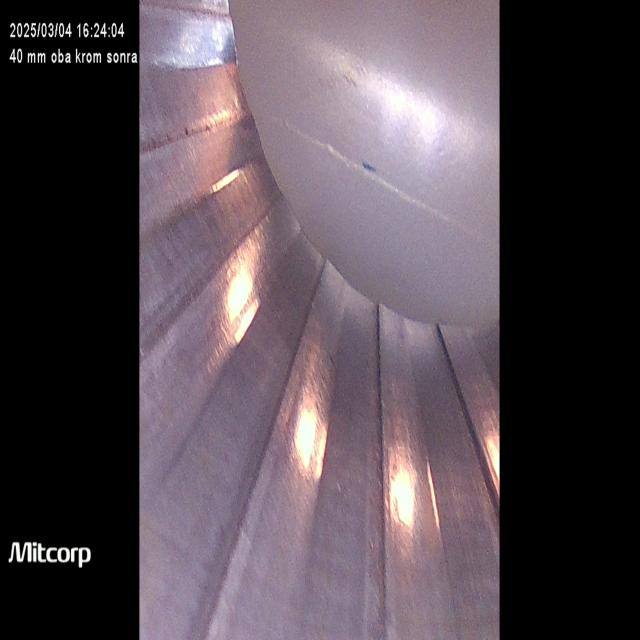hata_8.1: (138, 78, 260, 181)
